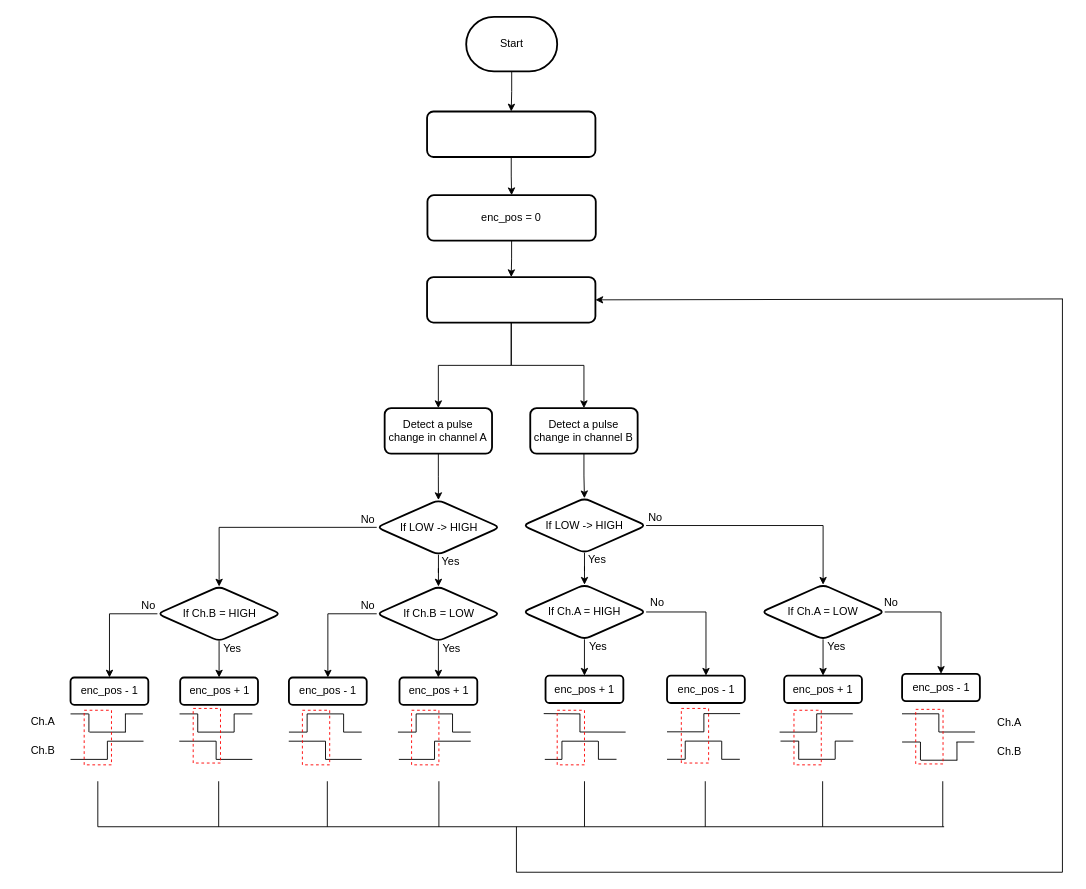
This 1086x889 diagram has some shape labels left out. The box of each missing label's shape, as (x1, y1, x2, y2) in pixels:
Detect a pulse change: (426, 276, 596, 323)
Pin Assignment (Ch.A = enc_a, Ch.B = enc_b): (426, 110, 596, 157)
